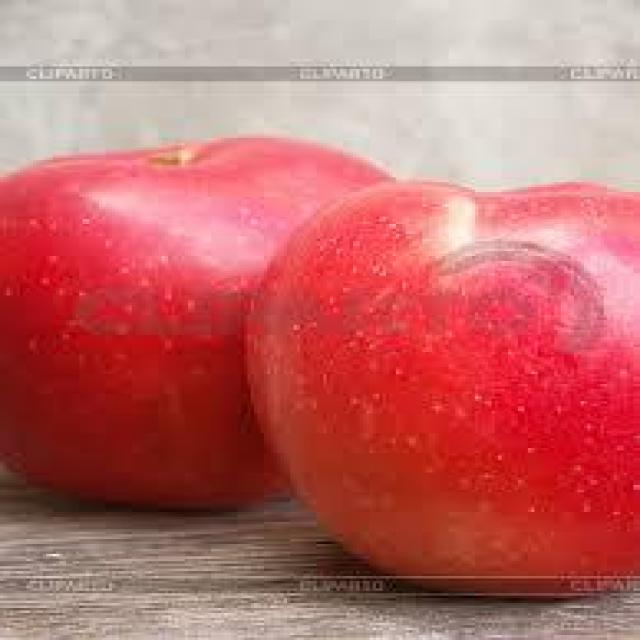apple: (244, 182, 630, 584), (3, 130, 390, 517)
